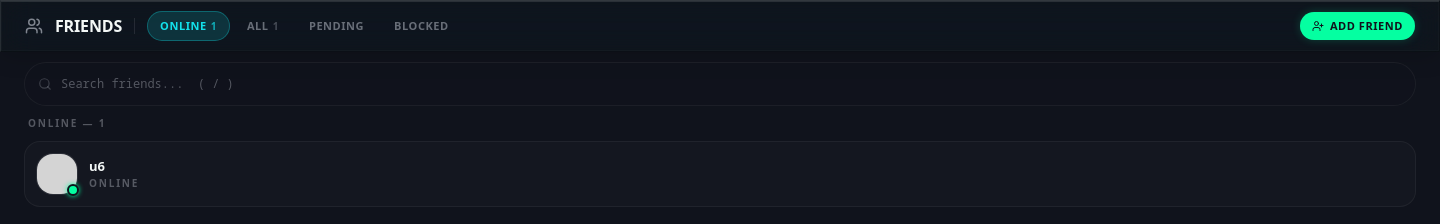
Test: FriendsPanel › dedupes accepted friend records before rendering the friends list
The image size is (1440, 224).
Step 1. Click the button "ALL1" → (263, 26), box left=234, top=11, right=292, bottom=41
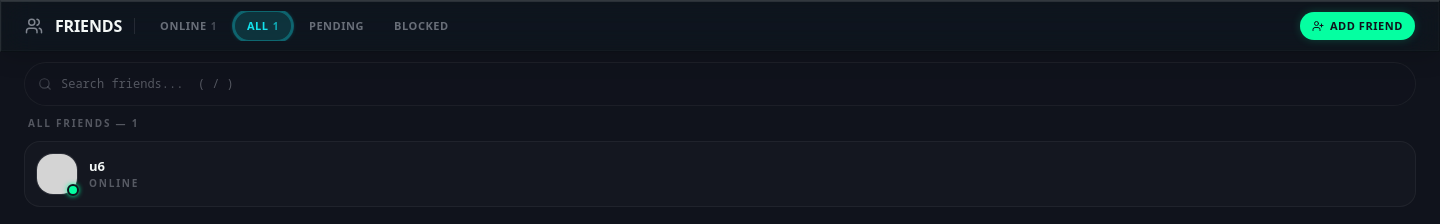
Expected: the text "u6" is shown once, left=89, top=157, right=105, bottom=175
Now the text "ALL FRIENDS — 1" is shown, box left=28, top=116, right=139, bottom=130
